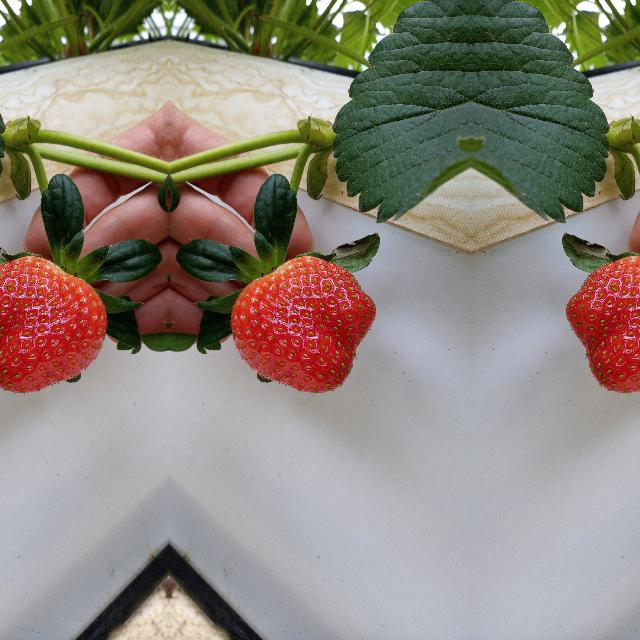Health_100: (228, 256, 376, 394), (0, 255, 108, 394), (565, 255, 640, 394)
